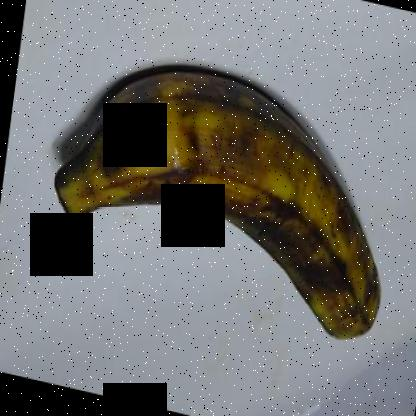overripe: (48, 52, 396, 360)
